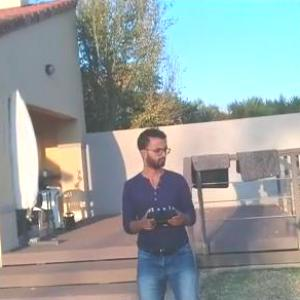follow: (122, 121, 208, 299)
